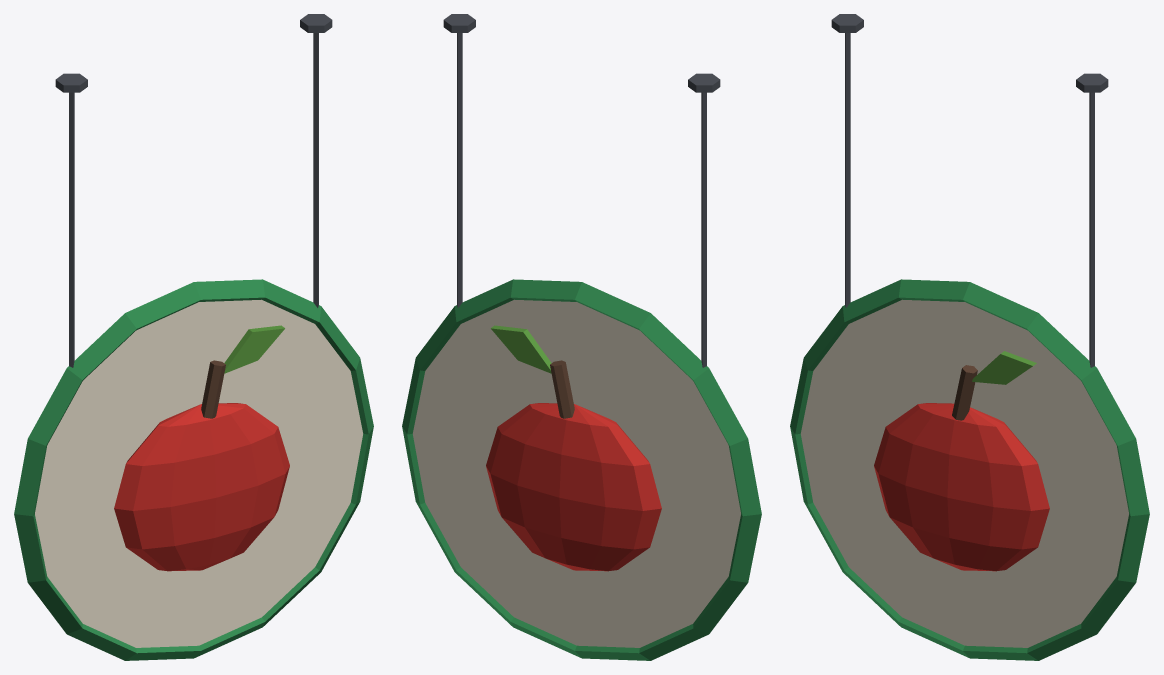
Rendered from Hanging_Icon_Fruit.fbx.
The picture shows the model from 3 angles, left to right: view 1: azimuth 30°, elevation 25°; view 2: azimuth 150°, elevation 25°; view 3: azimuth 330°, elevation 25°; orthographic projection.
Visible parts, largest first — view 1: Hanging_Icon_Fruit; view 2: Hanging_Icon_Fruit; view 3: Hanging_Icon_Fruit.
Part boxes in pixels (x1,y1,x2,y2): Hanging_Icon_Fruit: [14, 14, 373, 660]; Hanging_Icon_Fruit: [402, 14, 761, 660]; Hanging_Icon_Fruit: [790, 14, 1149, 660].
Size of the model in its own units: 1.03 by 1.66 by 0.224.
1 material, 1 textured.
